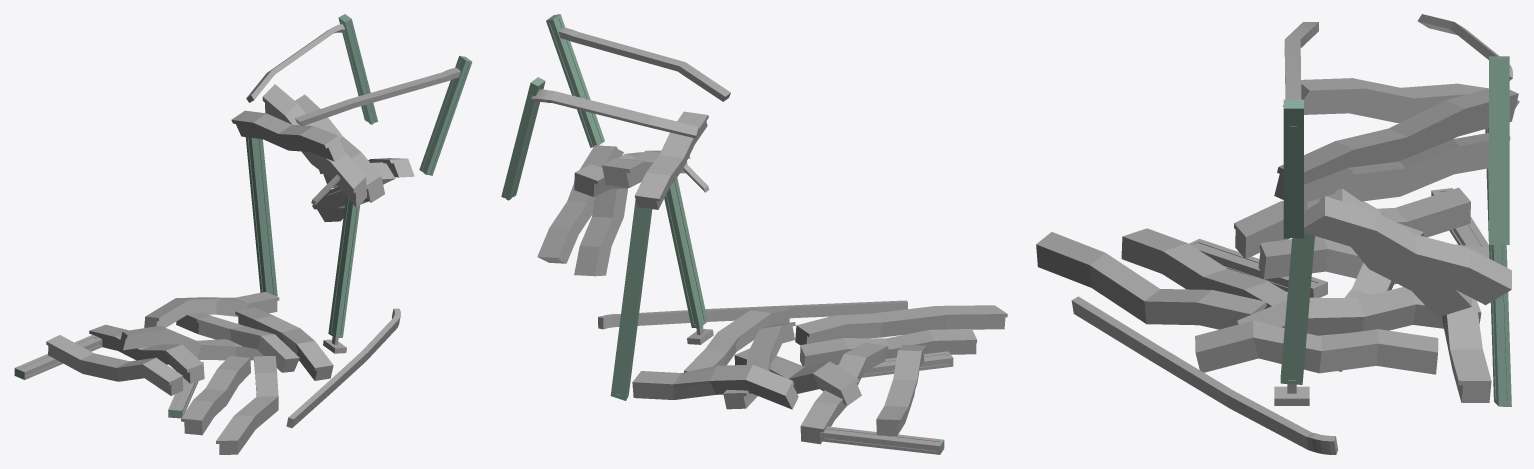
File: MODEL_ENV_BrokenStairs.fbx
3 renders of one model, left to right at view 1: azimuth 30°, elevation 25°; view 2: azimuth 150°, elevation 25°; view 3: azimuth 270°, elevation 25°, orthographic. The views are drawn at different scales.
Visible parts, largest first — view 1: Broken_Stairs; view 2: Broken_Stairs; view 3: Broken_Stairs.
Boxes of the visible parts, <box> form: Broken_Stairs: <box>14,14,472,454</box>; Broken_Stairs: <box>501,14,1007,454</box>; Broken_Stairs: <box>1036,14,1519,454</box>.
Size of the model in its own units: 754 by 479 by 513.
